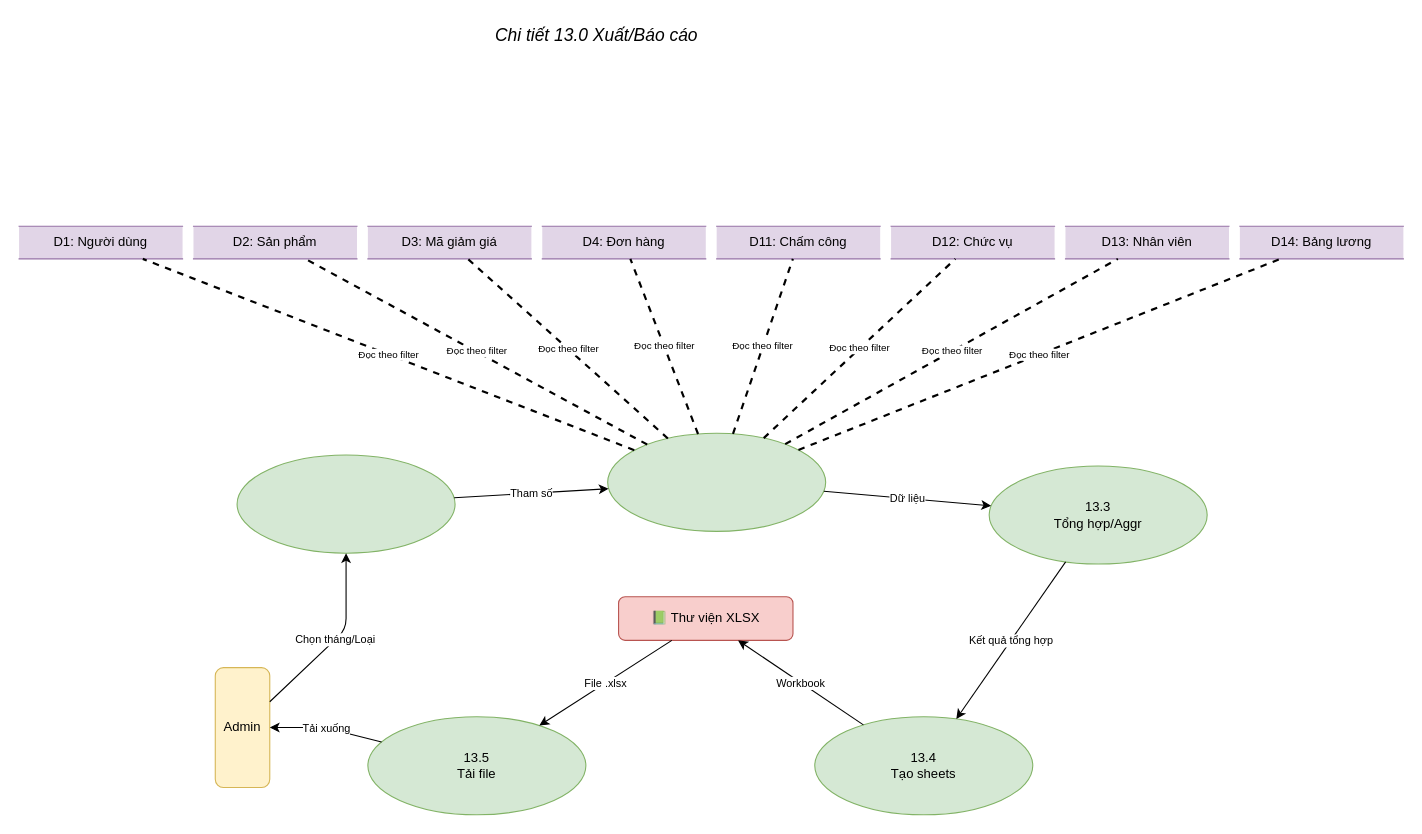
The diagram is 1422 pixels wide and 834 high, and some of its shapes have lost their labels. Here are the shapes that lost their labels. From the top down, the box of each, then its label:
(607, 432, 826, 531): 13.2 Gom dữ liệu
(236, 454, 455, 553): 13.1 Chọn tháng/loại
